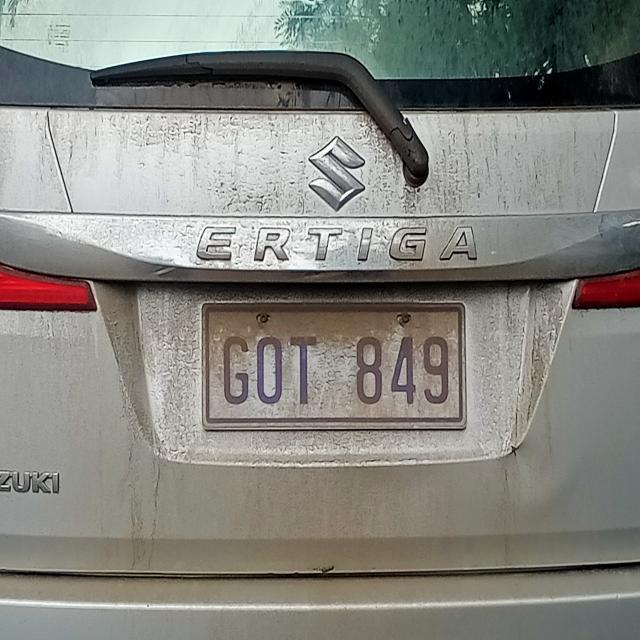LicensePlate: (191, 295, 481, 443)
